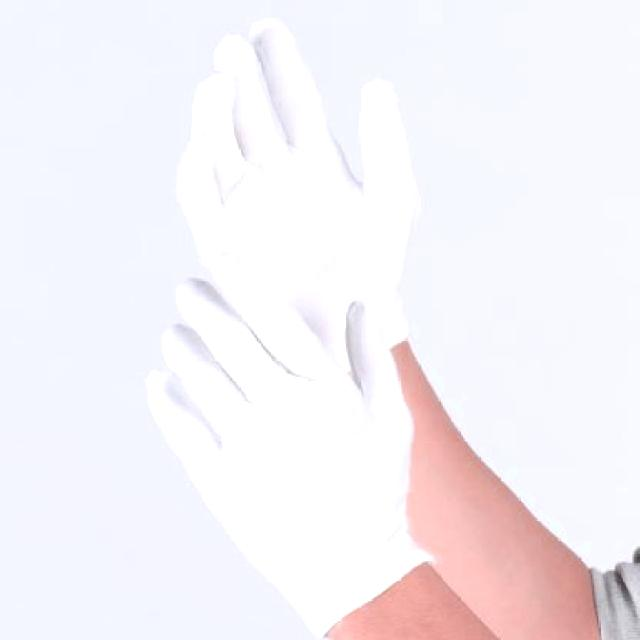hand_glove: (147, 250, 416, 572), (174, 13, 421, 332)
